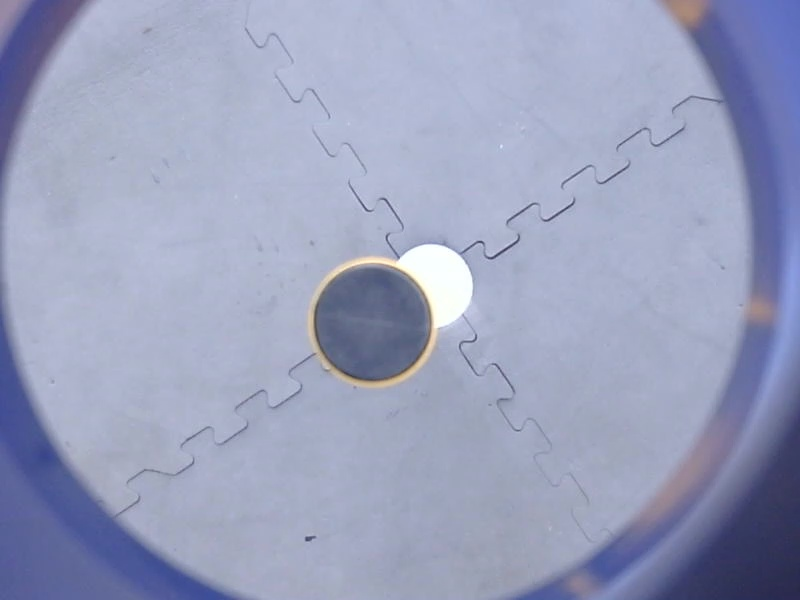tip: (301, 250, 443, 395)
